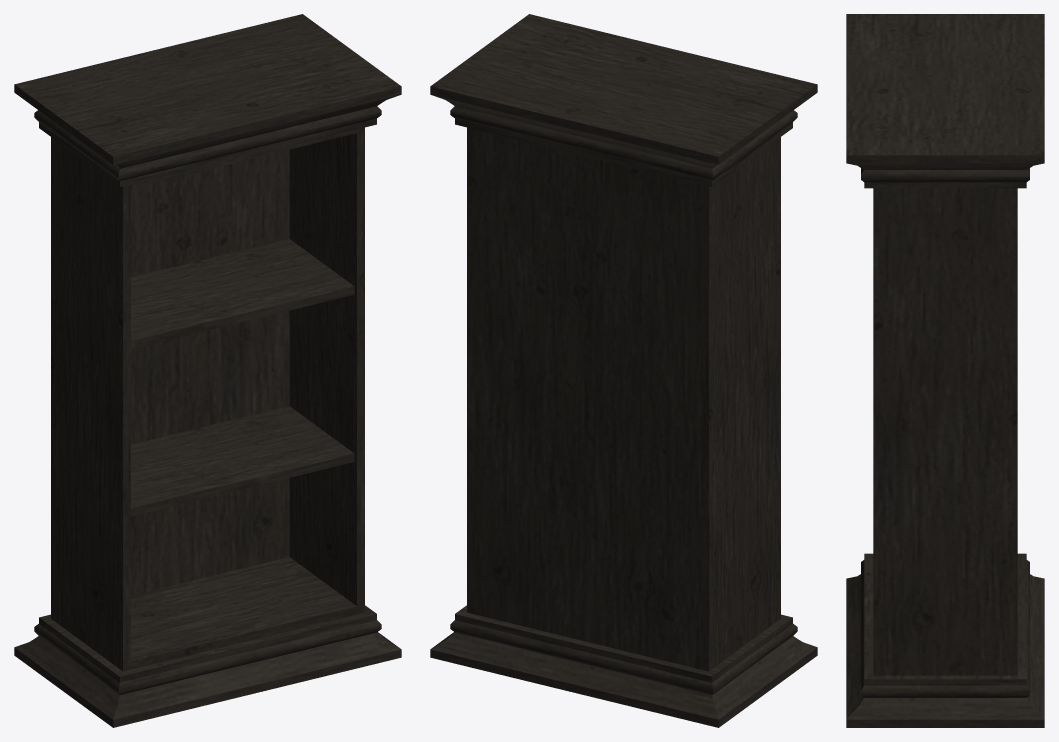
Rendered from shelf_mp_2.dae.
The picture shows the model from 3 angles, left to right: view 1: azimuth 30°, elevation 25°; view 2: azimuth 150°, elevation 25°; view 3: azimuth 270°, elevation 25°; orthographic projection.
Parts seen in each view (by area): view 1: shelf_mp_2; view 2: shelf_mp_2; view 3: shelf_mp_2.
Boxes of the visible parts, box(x1,y1,x2,y2) form: shelf_mp_2: box(14, 14, 401, 727); shelf_mp_2: box(430, 14, 817, 727); shelf_mp_2: box(846, 14, 1044, 727).
Bounding box in the file's own units: 0.74 × 0.44 × 1.4.
Materials: 1 (1 with a texture image).
